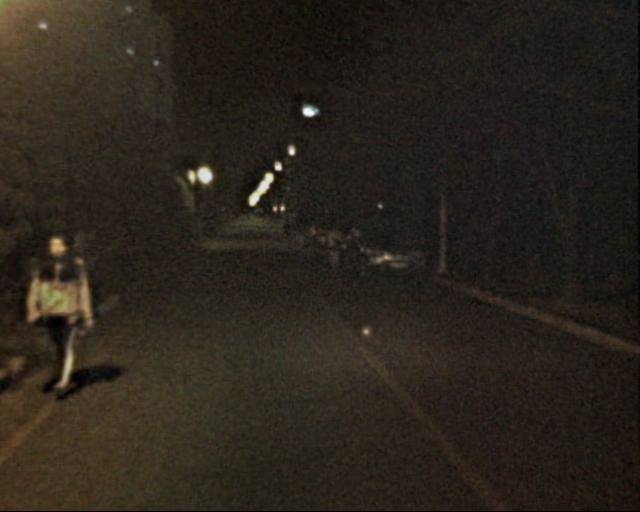person: (27, 227, 108, 399), (323, 224, 342, 271), (291, 216, 304, 248), (280, 218, 291, 246)
